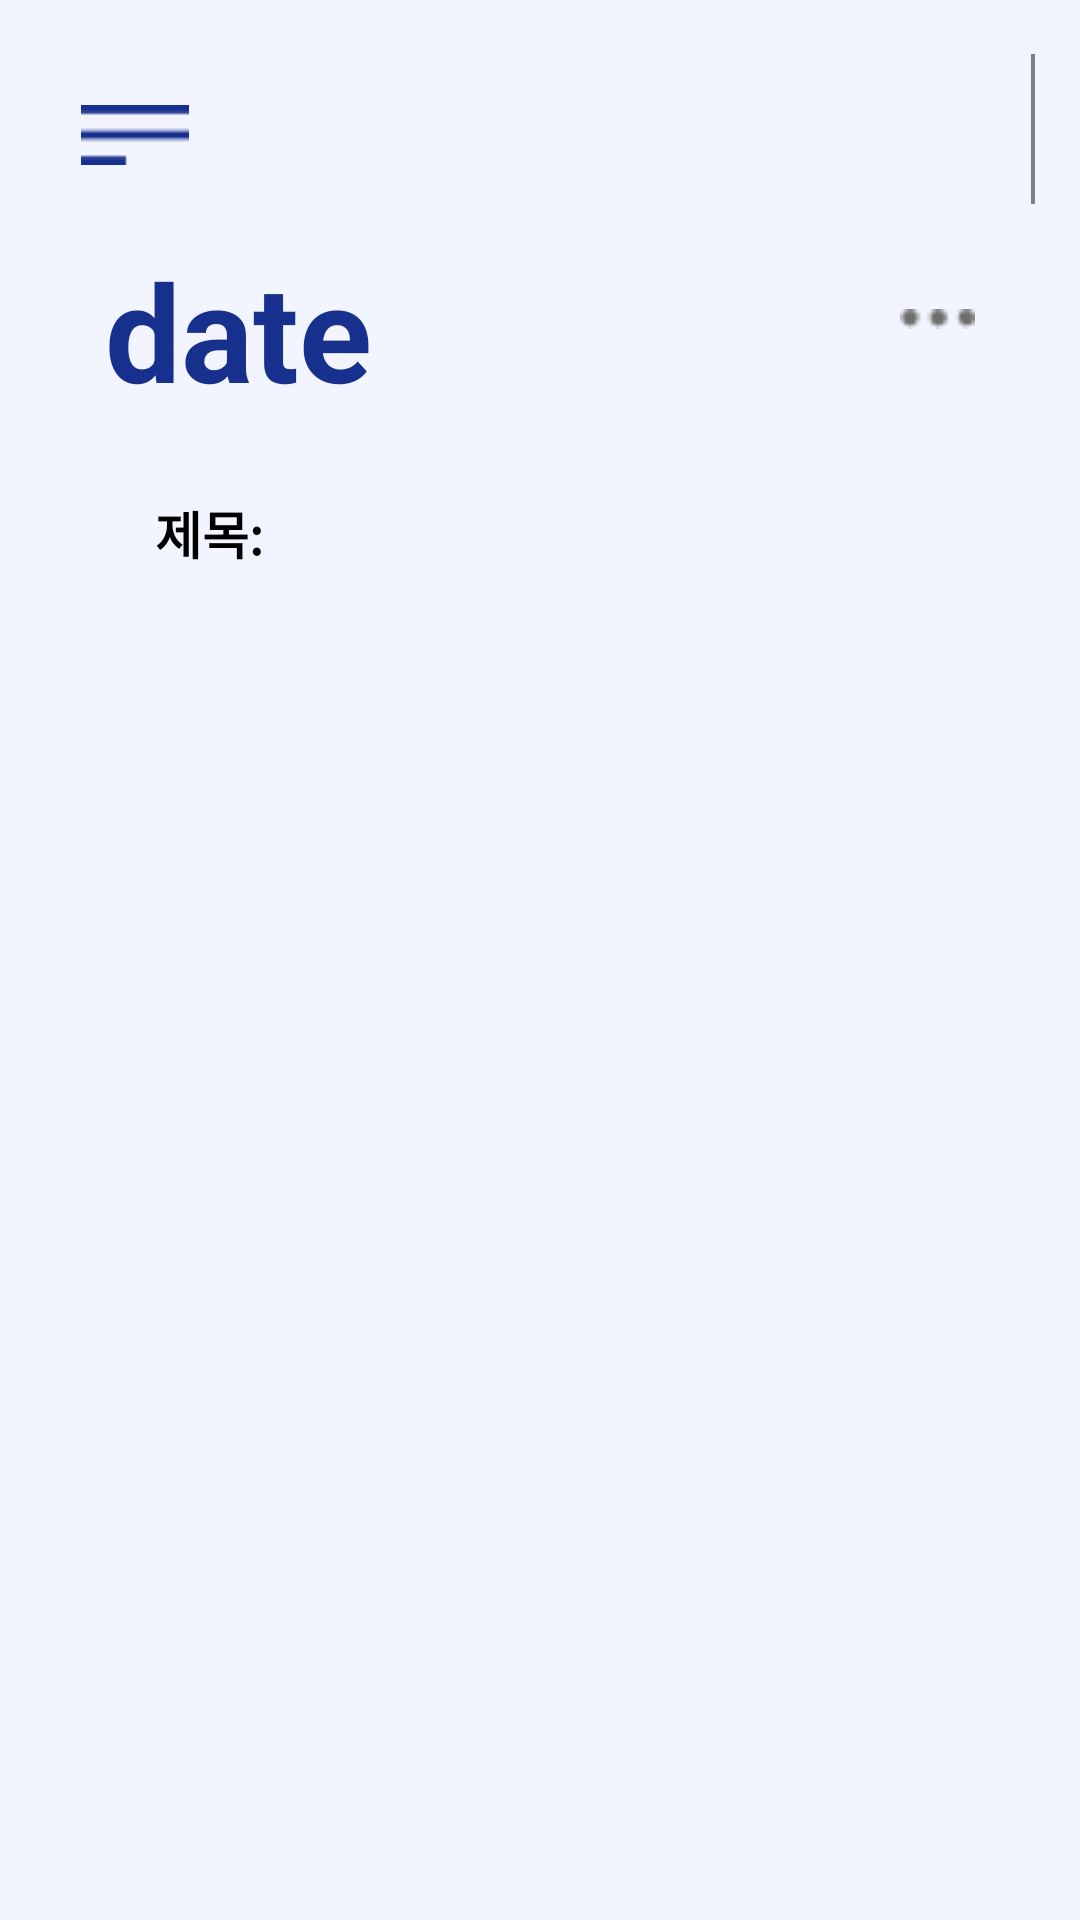

Icon bounding boxes for this 1080 × 1920 phone screenshot, format {"left": x1, "top": y1, "right": x2, "bottom": y2}:
menu: {"left": 81, "top": 105, "right": 189, "bottom": 165}
